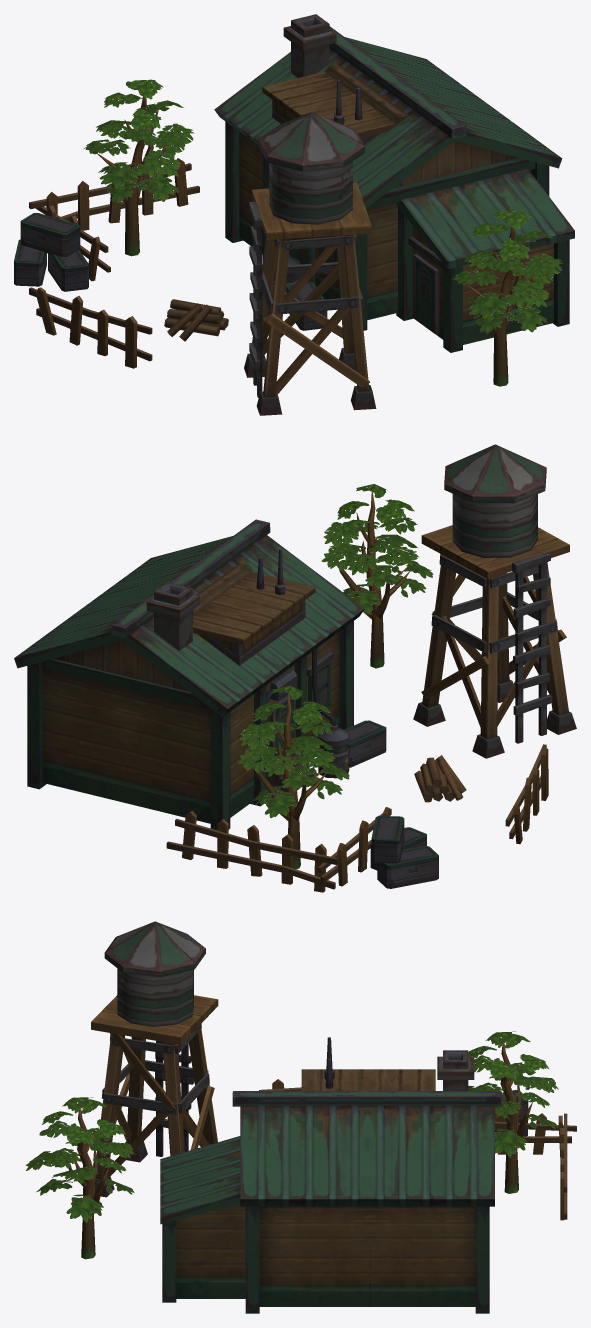
Rendered from WMAllyCamp1.FBX.
3 renders of one model, top to bottom at view 1: azimuth 30°, elevation 25°; view 2: azimuth 150°, elevation 25°; view 3: azimuth 270°, elevation 25°, orthographic. The views are drawn at different scales.
Parts seen in each view (by area): view 1: yingdi3; view 2: yingdi3; view 3: yingdi3.
Boxes of the visible parts, <box> form: yingdi3: <box>14,14,574,415</box>; yingdi3: <box>14,444,576,892</box>; yingdi3: <box>25,921,576,1313</box>.
Bounding box in the file's own units: 1.09 × 0.6635 × 1.28.
1 material, 1 textured.
